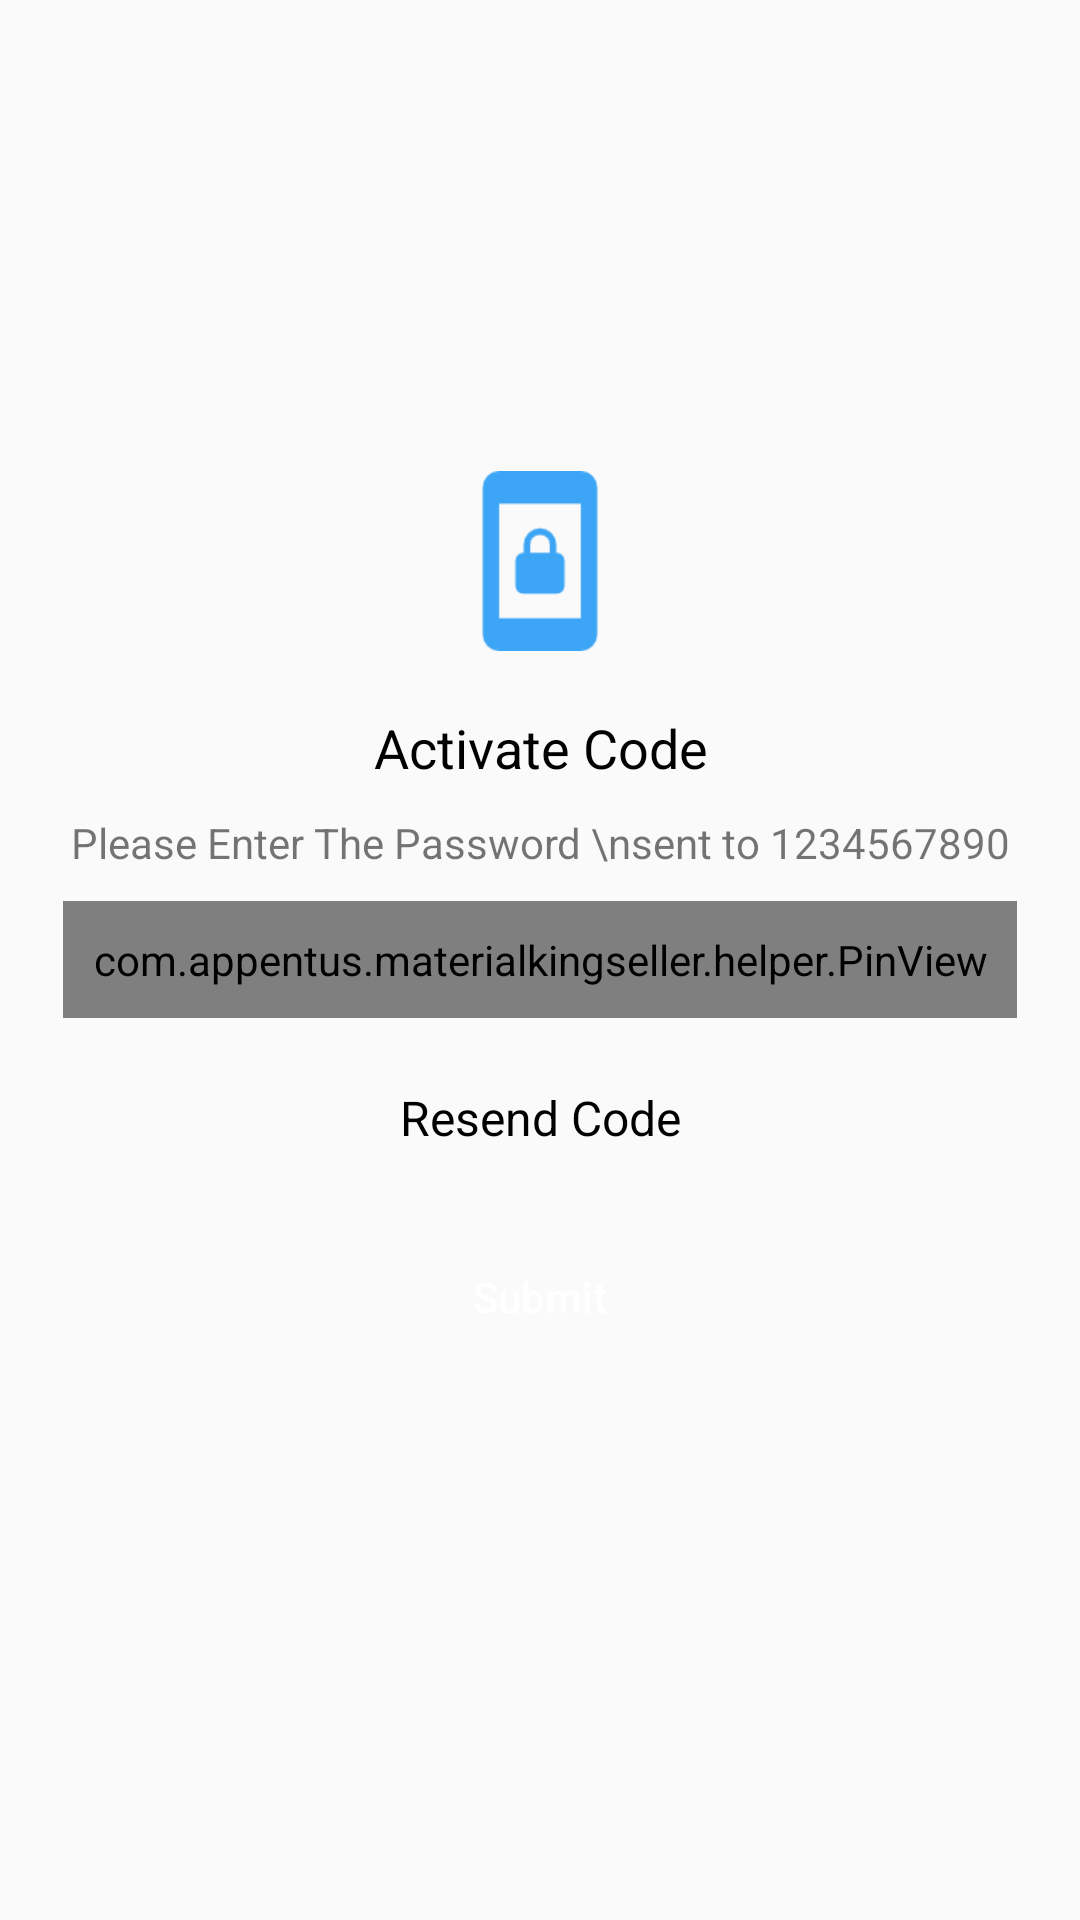

Where icons sit on this 1080 × 1920 app screen, as (x1, y1, x2, y2):
otp: (482, 471, 598, 651)
